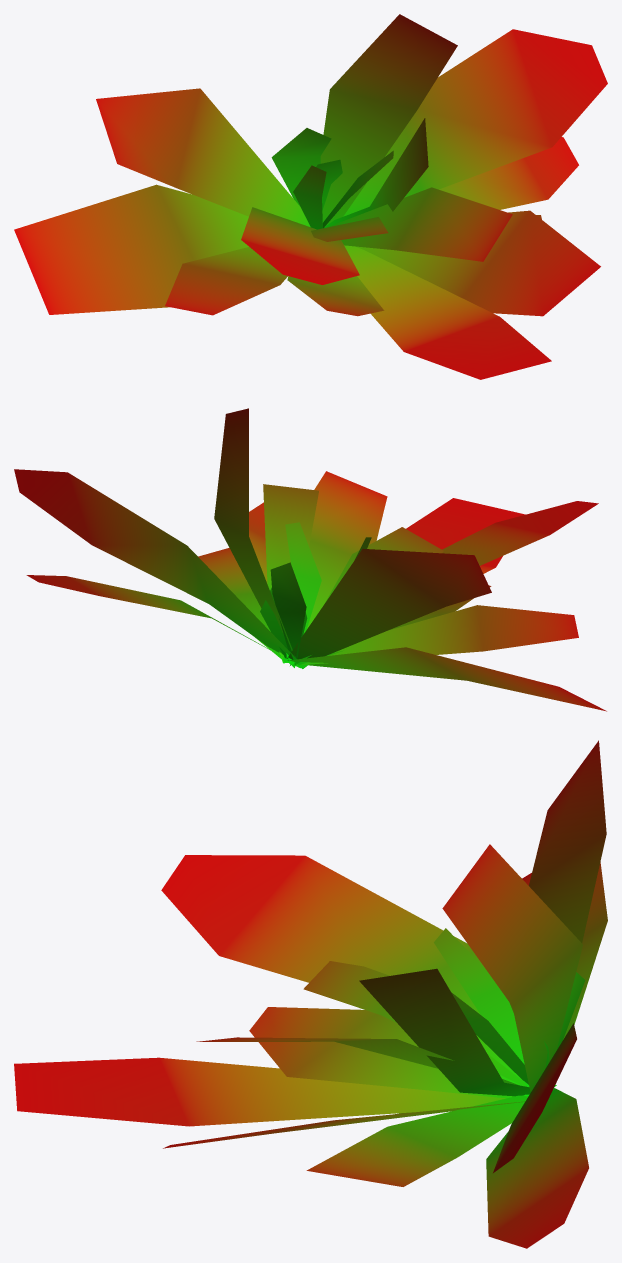
File: Var22_LOD2.fbx
3 views of the same model, one above another, from view 1: azimuth 30°, elevation 25°; view 2: azimuth 150°, elevation 25°; view 3: azimuth 270°, elevation 25° (orthographic). The views are drawn at different scales.
Visible parts, largest first — view 1: _vrnn_Var22_LOD2; view 2: _vrnn_Var22_LOD2; view 3: _vrnn_Var22_LOD2.
Part boxes in pixels (left/top/right/bottom): _vrnn_Var22_LOD2: left=14, top=14, right=607, bottom=379; _vrnn_Var22_LOD2: left=14, top=408, right=606, bottom=711; _vrnn_Var22_LOD2: left=14, top=740, right=607, bottom=1248.
Bounding box in the file's own units: 21.9 × 8.48 × 14.81.
